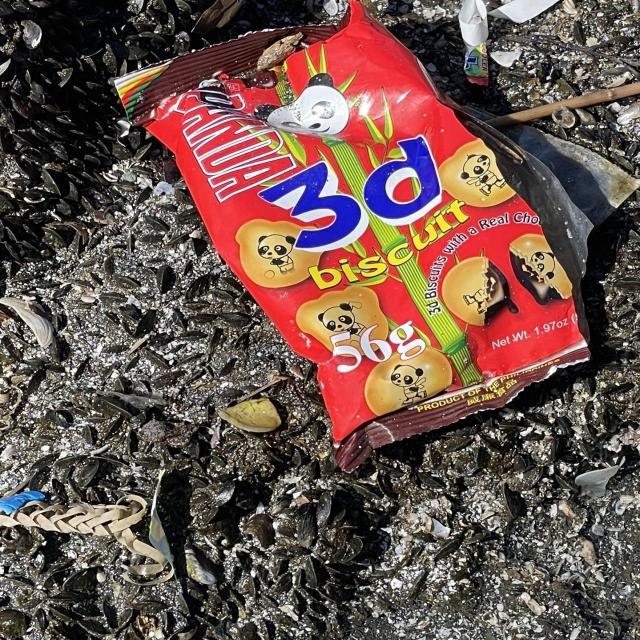plastic_waste: (109, 1, 597, 478)
